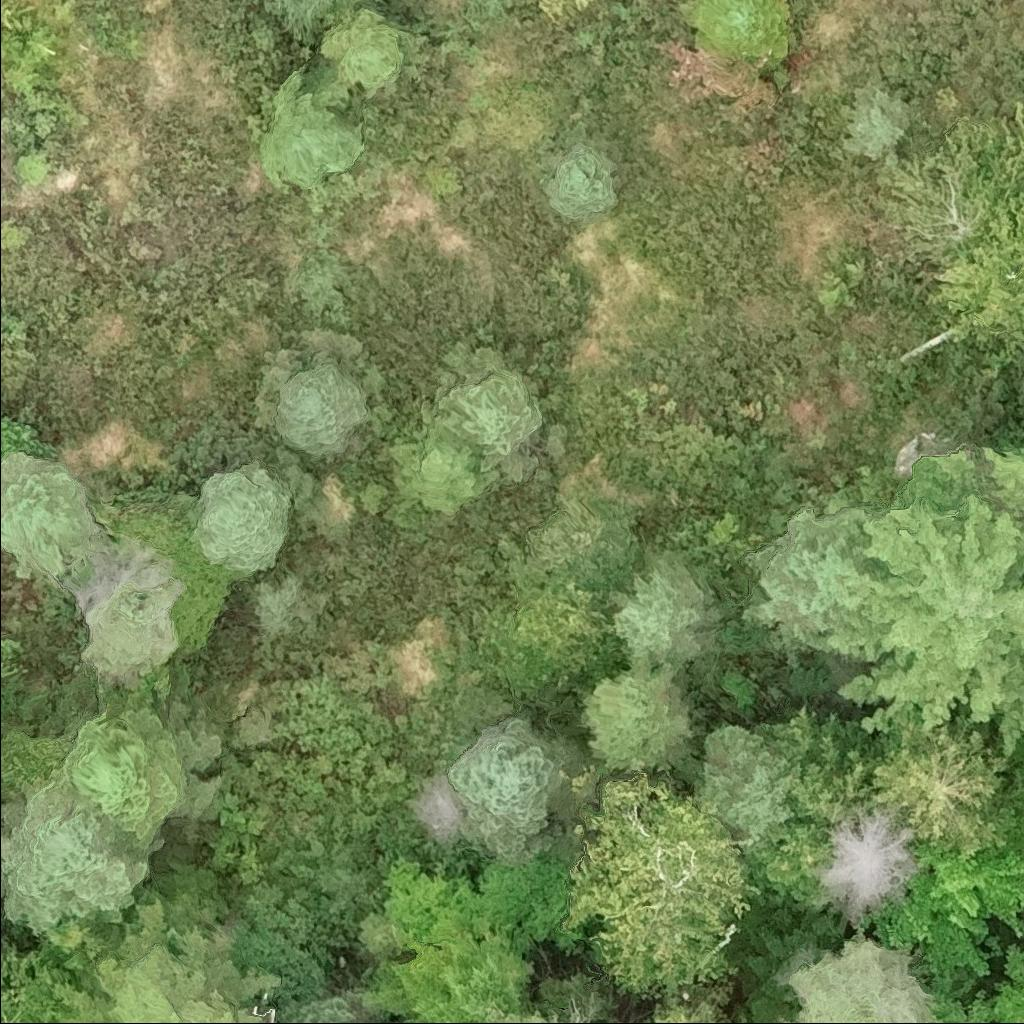crown: (825, 443, 1023, 763), (564, 772, 765, 1000), (863, 767, 1023, 1001), (46, 888, 285, 1023), (0, 779, 152, 932), (739, 506, 875, 664), (870, 715, 1011, 860), (448, 710, 580, 856), (56, 708, 183, 847), (376, 910, 530, 1023), (770, 926, 943, 1023), (579, 655, 690, 777), (814, 801, 919, 929), (504, 579, 617, 697), (262, 71, 367, 196), (935, 198, 1023, 345), (609, 558, 720, 672), (0, 452, 100, 577), (699, 729, 797, 846), (82, 576, 186, 681), (440, 365, 542, 471), (196, 461, 291, 573), (526, 507, 645, 596), (273, 363, 372, 458), (391, 416, 481, 513), (321, 12, 415, 95), (682, 0, 787, 64), (543, 142, 620, 221), (841, 90, 915, 161), (0, 936, 59, 1023), (277, 0, 378, 41), (638, 981, 736, 1023), (278, 993, 376, 1023), (466, 1004, 570, 1023), (0, 727, 7, 760), (1012, 436, 1023, 449), (1021, 376, 1023, 395)
